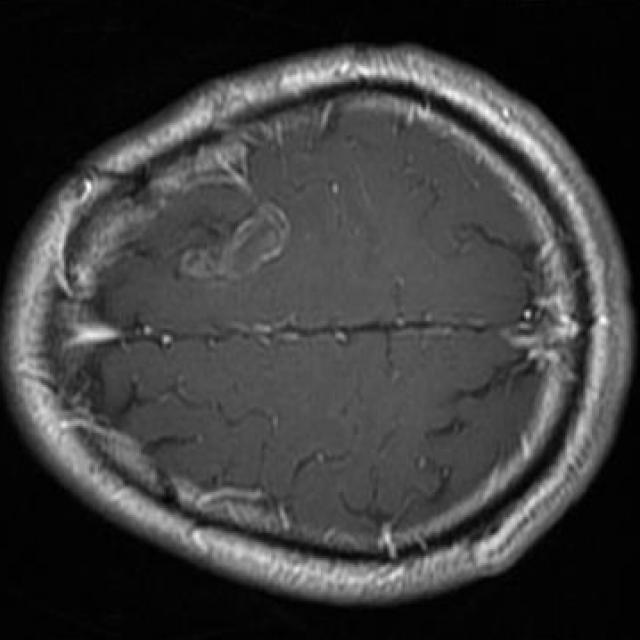glioma: (178, 203, 291, 282)
